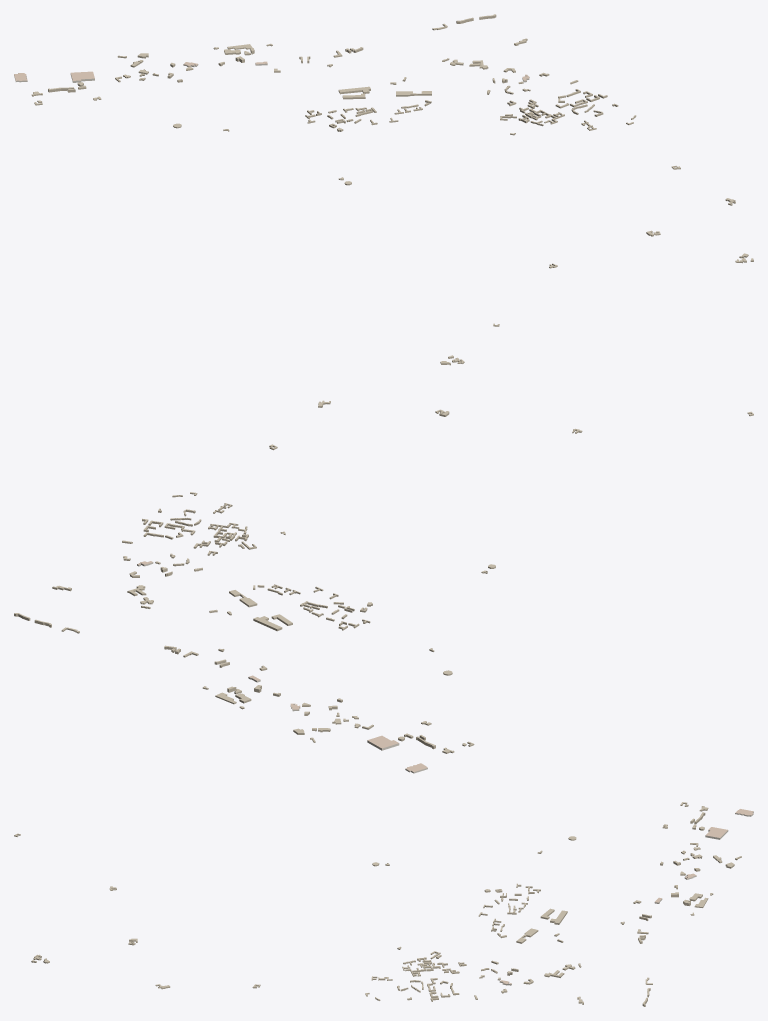
The picture shows the model from 3 angles, top to bottom: view 1: azimuth 30°, elevation 25°; view 2: azimuth 150°, elevation 25°; view 3: azimuth 270°, elevation 25°; orthographic projection. The views are drawn at different scales.
Bounding box in the file's own units: 2768 × 124 × 4323.
